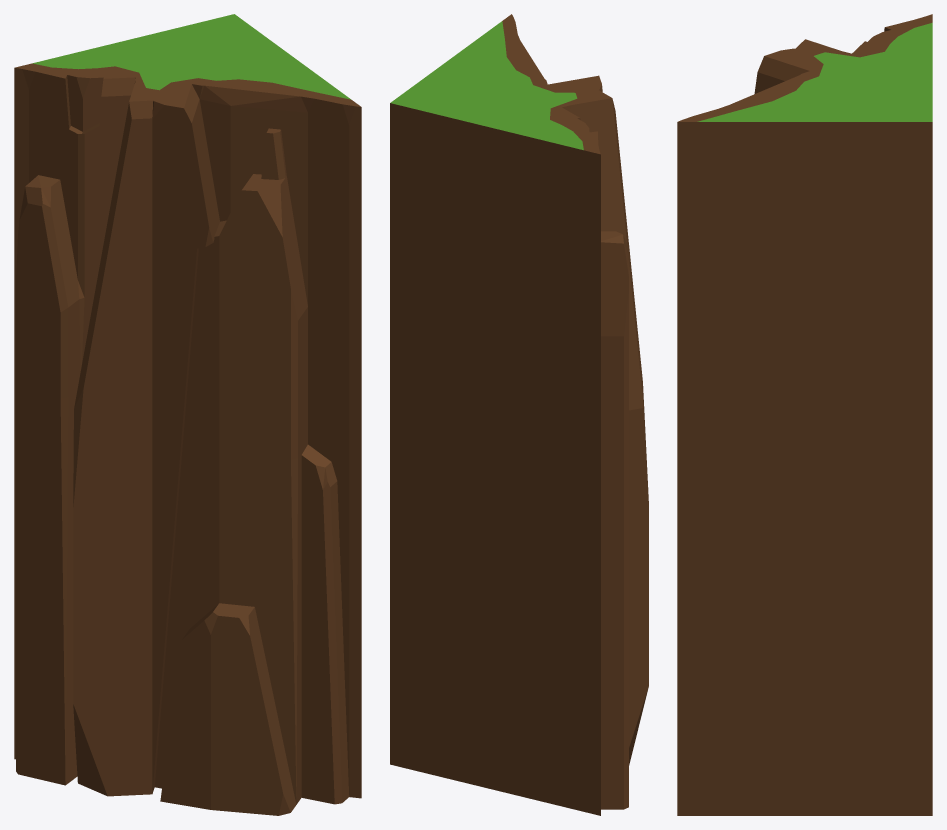
Rendered from Cliff x3 6.fbx.
3 renders of one model, left to right at view 1: azimuth 30°, elevation 25°; view 2: azimuth 150°, elevation 25°; view 3: azimuth 270°, elevation 25°, orthographic. The views are drawn at different scales.
Visible parts, largest first — view 1: Cliff x3 6; view 2: Cliff x3 6; view 3: Cliff x3 6.
Boxes of the visible parts, bbox=[...] form: Cliff x3 6: bbox=[14, 14, 361, 815]; Cliff x3 6: bbox=[390, 14, 648, 815]; Cliff x3 6: bbox=[677, 14, 932, 815].
Bounding box in the file's own units: 2.12 × 6 × 2.
